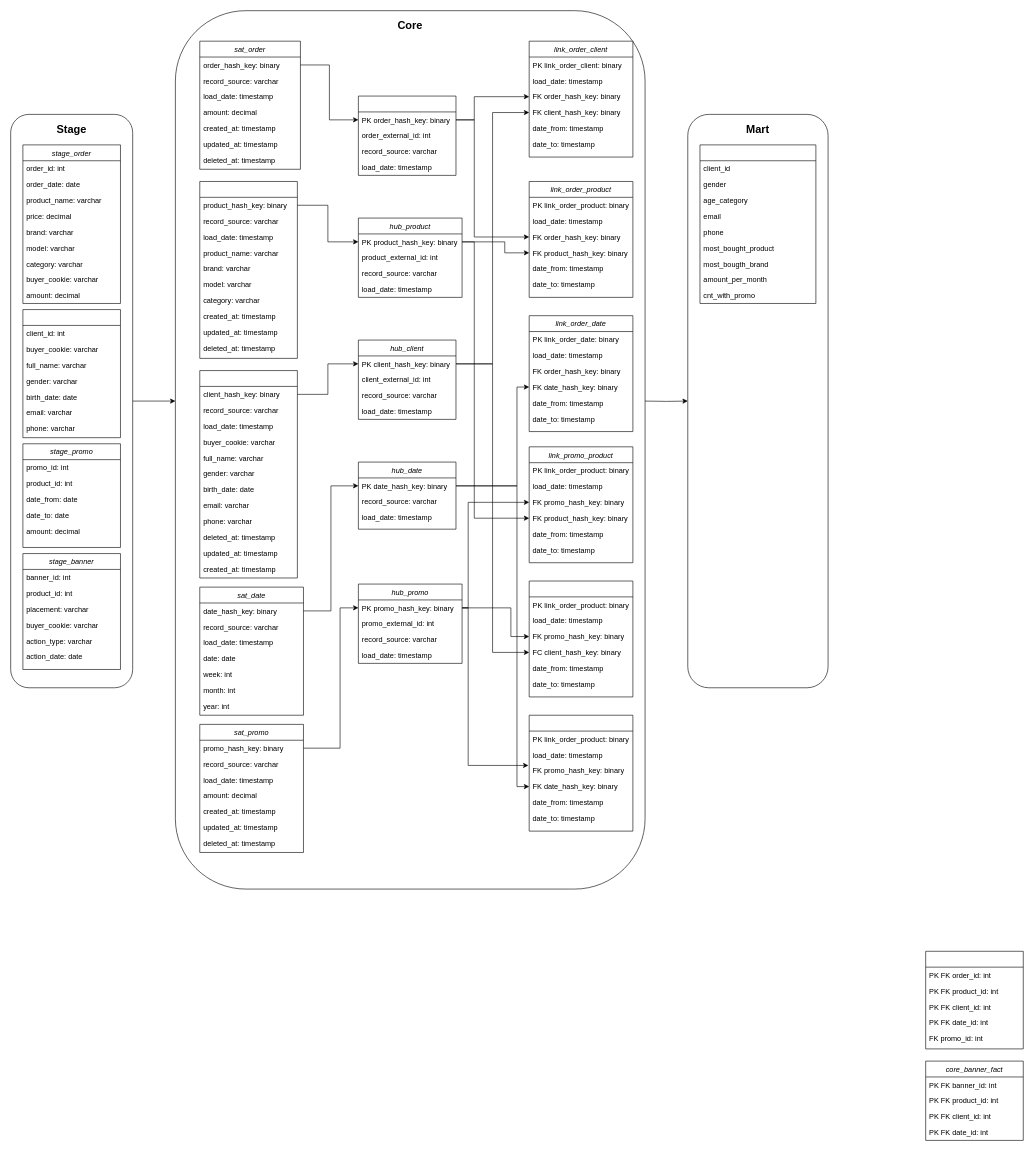
This 1034x1153 diagram has some shape labels left out. Each missing label, with the box of its shape:
core_order_fact: (925, 951, 1023, 1049)
hub_order: (358, 95, 456, 175)
link_promo_client: (529, 580, 633, 697)
link_promo_date: (529, 715, 633, 831)
mart_client_data: (699, 144, 816, 303)
sat_client: (199, 370, 297, 578)
sat_product: (199, 181, 297, 358)
stage_client: (22, 309, 120, 438)
